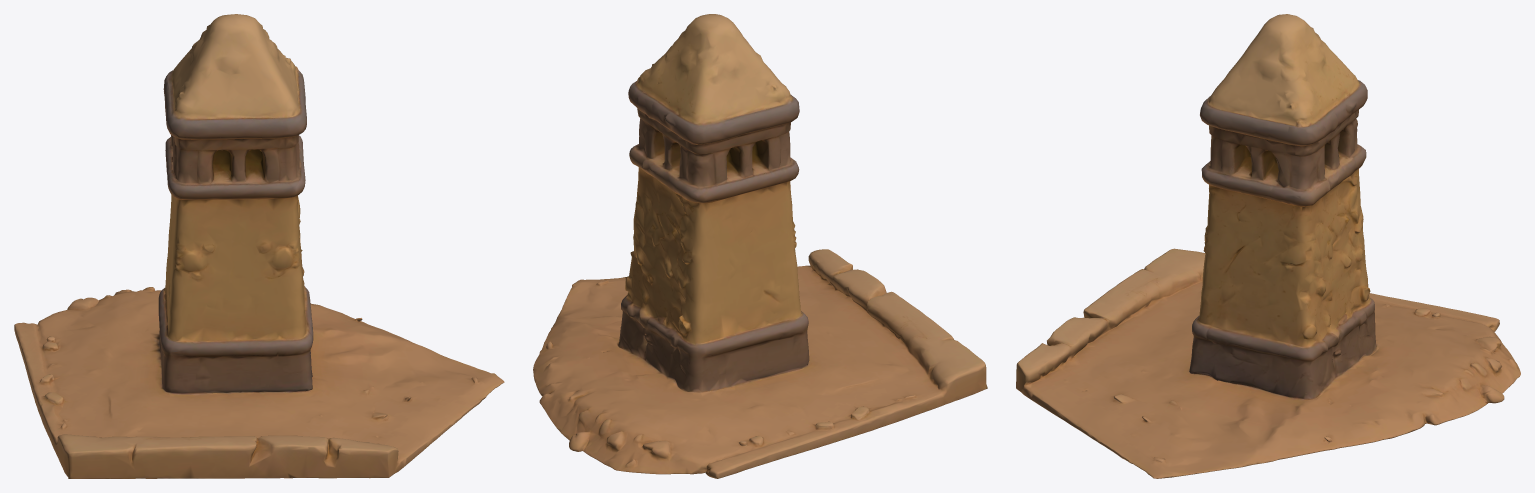
File: chimney.glb
The picture shows the model from 3 angles, left to right: view 1: azimuth 30°, elevation 25°; view 2: azimuth 150°, elevation 25°; view 3: azimuth 270°, elevation 25°; orthographic projection. The views are drawn at different scales.
Visible parts, largest first — view 1: tripo_node_dbdf7cab-945d-4137-ab9e-6f43eaaabfe8; view 2: tripo_node_dbdf7cab-945d-4137-ab9e-6f43eaaabfe8; view 3: tripo_node_dbdf7cab-945d-4137-ab9e-6f43eaaabfe8.
Boxes of the visible parts, <box> form: tripo_node_dbdf7cab-945d-4137-ab9e-6f43eaaabfe8: <box>14,14,504,478</box>; tripo_node_dbdf7cab-945d-4137-ab9e-6f43eaaabfe8: <box>533,14,987,478</box>; tripo_node_dbdf7cab-945d-4137-ab9e-6f43eaaabfe8: <box>1016,14,1520,478</box>.
Bounding box in the file's own units: 0.9658 × 0.8018 × 1.
1 material, 1 textured.
